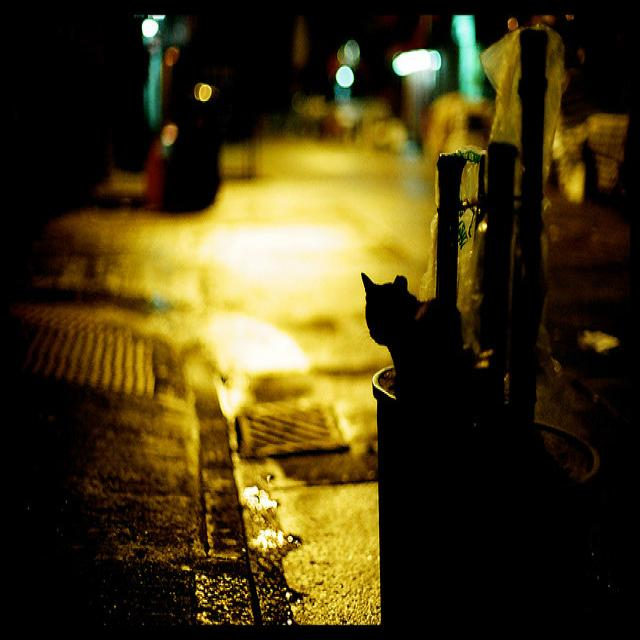Cat: (350, 251, 531, 459)
